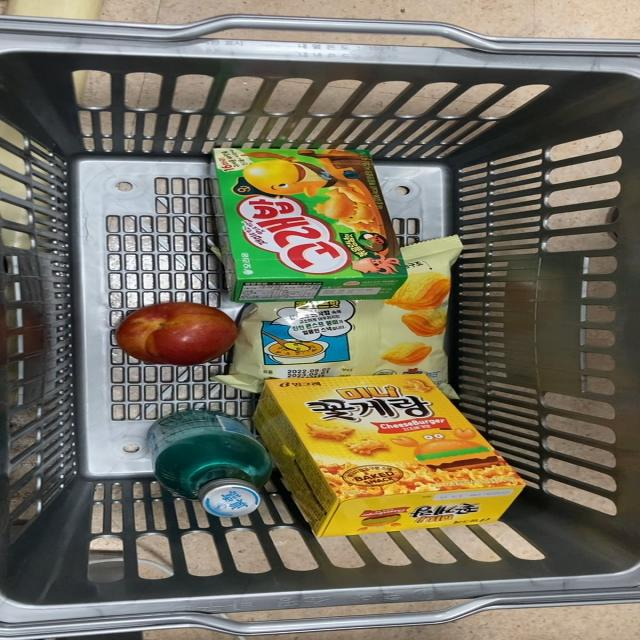ggobukchip: (247, 291, 469, 372)
goraebob: (208, 142, 393, 292)
jinro: (143, 402, 276, 528)
minicrab: (280, 369, 540, 538)
plum: (111, 299, 247, 367)
